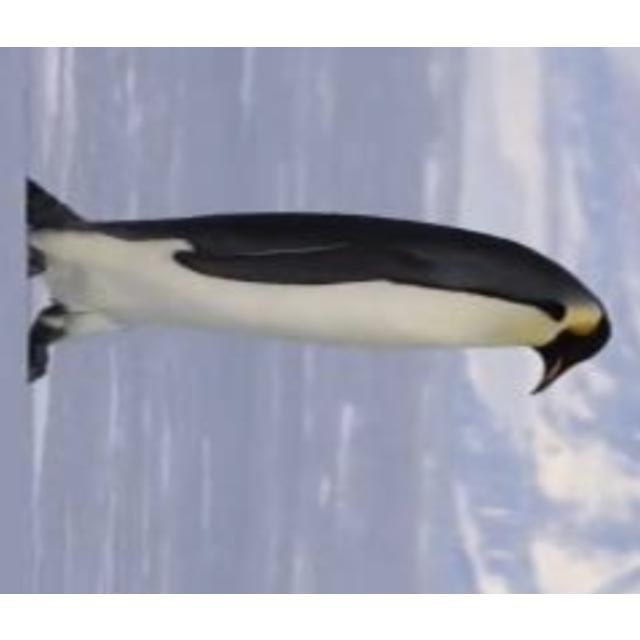penguin: (26, 175, 611, 396)
